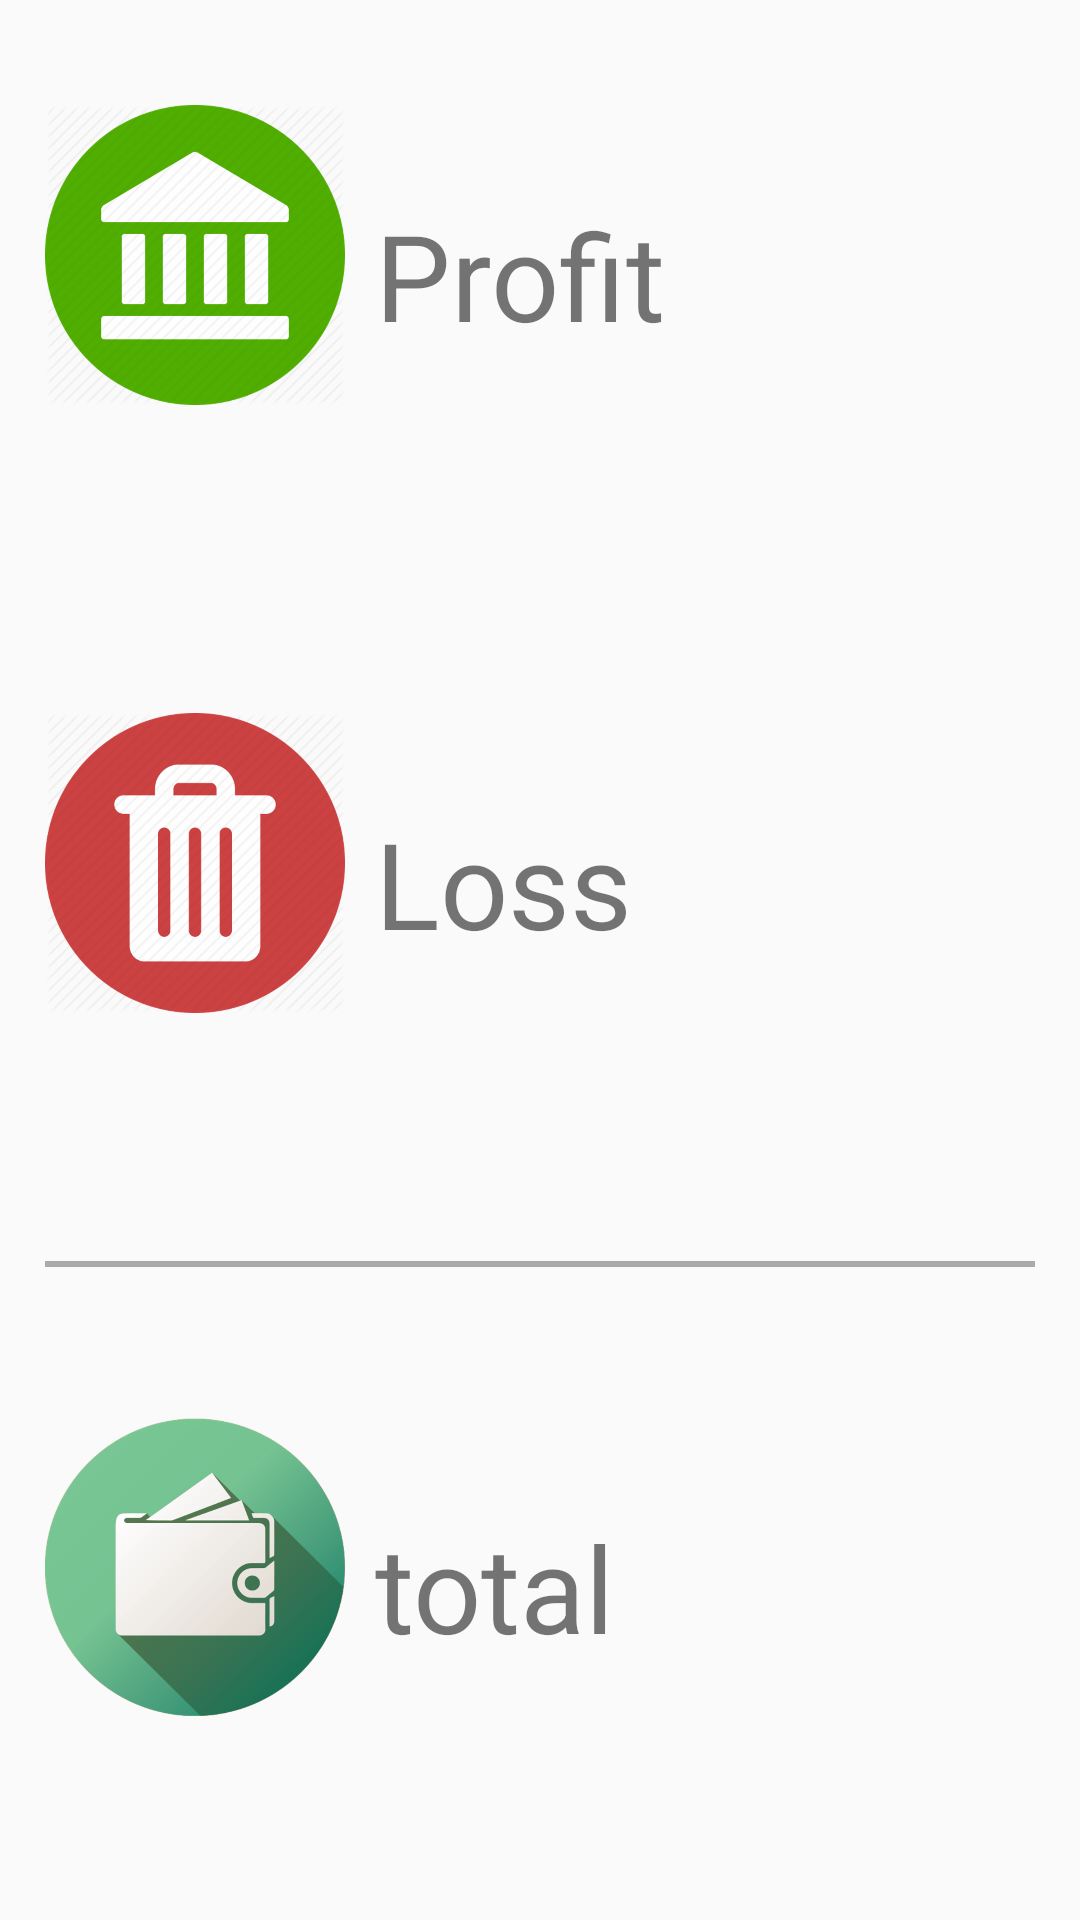

Icons on this 1080×1920 Android screen, each with its box as (x1, y1, x2, y2):
bank: (45, 105, 345, 405)
garbage: (45, 713, 345, 1013)
wallet: (45, 1418, 345, 1716)
